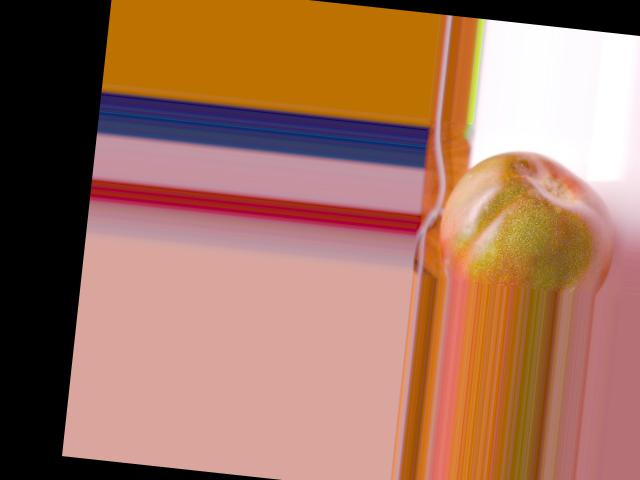tomato: (434, 143, 621, 297)
